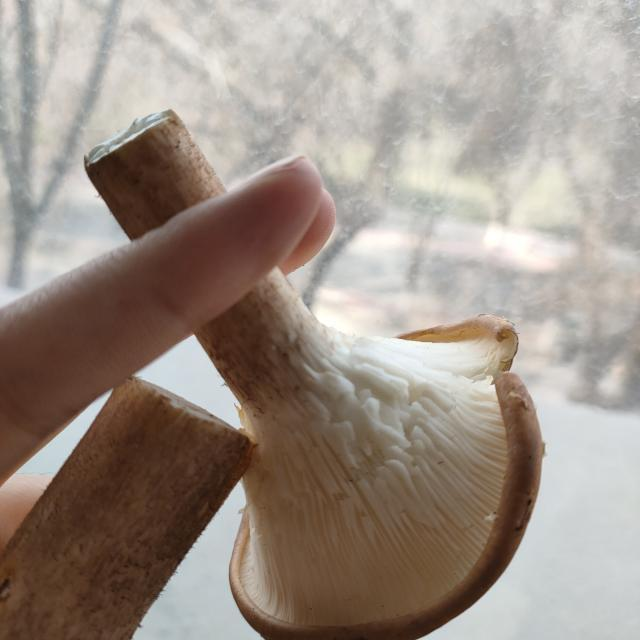Clitocybe maxima: (85, 110, 545, 639)
